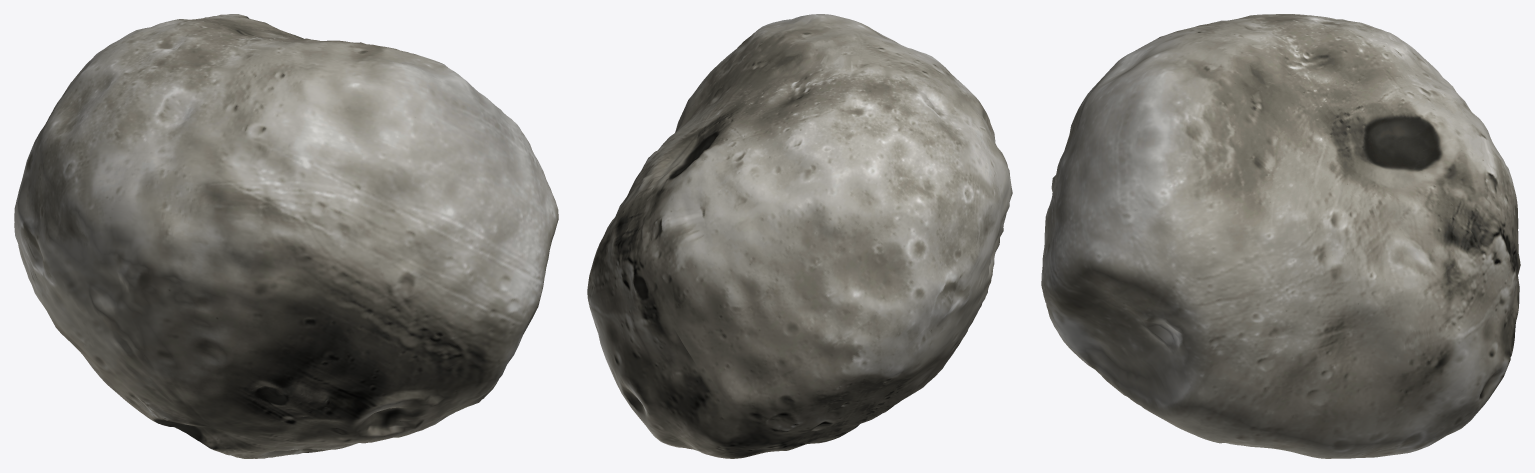
Rendered from phobos_4k.glb.
The picture shows the model from 3 angles, left to right: view 1: azimuth 30°, elevation 25°; view 2: azimuth 150°, elevation 25°; view 3: azimuth 270°, elevation 25°; orthographic projection. The views are drawn at different scales.
Parts seen in each view (by area): view 1: phobos_0_1; view 2: phobos_0_1; view 3: phobos_0_1.
Boxes of the visible parts, <box> form: phobos_0_1: <box>14,14,558,458</box>; phobos_0_1: <box>587,14,1012,458</box>; phobos_0_1: <box>1041,14,1520,458</box>.
Bounding box in the file's own units: 4.86 × 4.71 × 5.39.
Materials: 1 (1 with a texture image).
